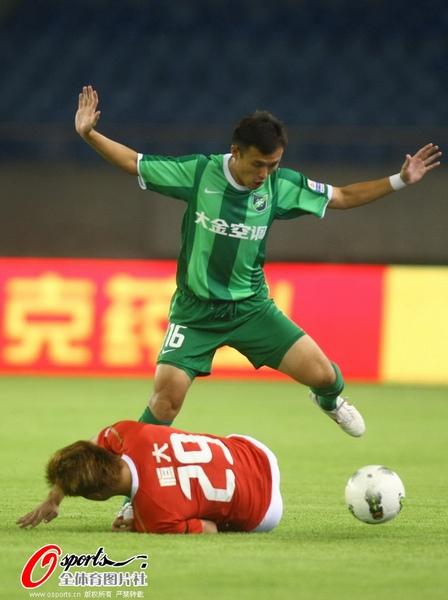down: (20, 417, 286, 548)
up: (54, 69, 436, 421)
